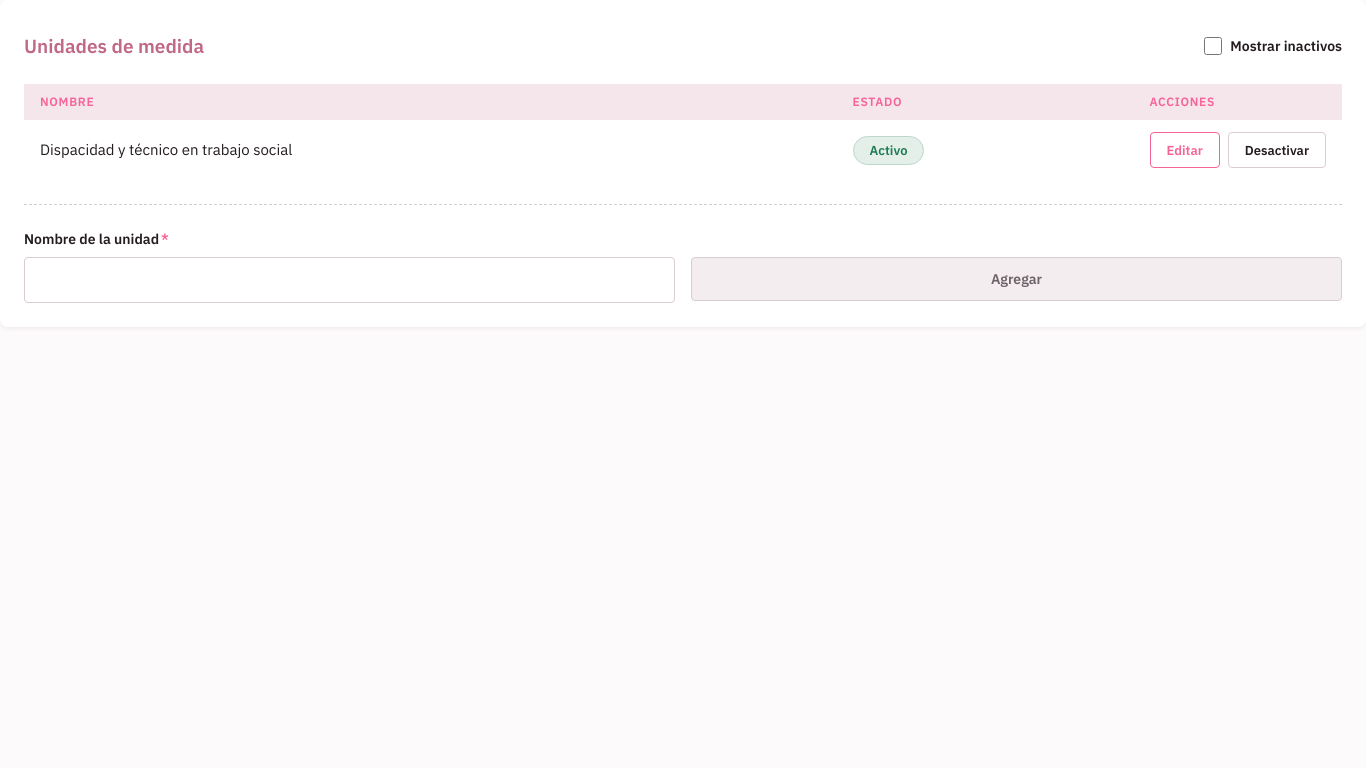
Test case: editar un registro del catálogo › en unidades de medida advierte no cambiar una unidad por otra
The image size is (1366, 768).
Click the button "Editar": (1185, 150) 1150,132 -> 1220,168
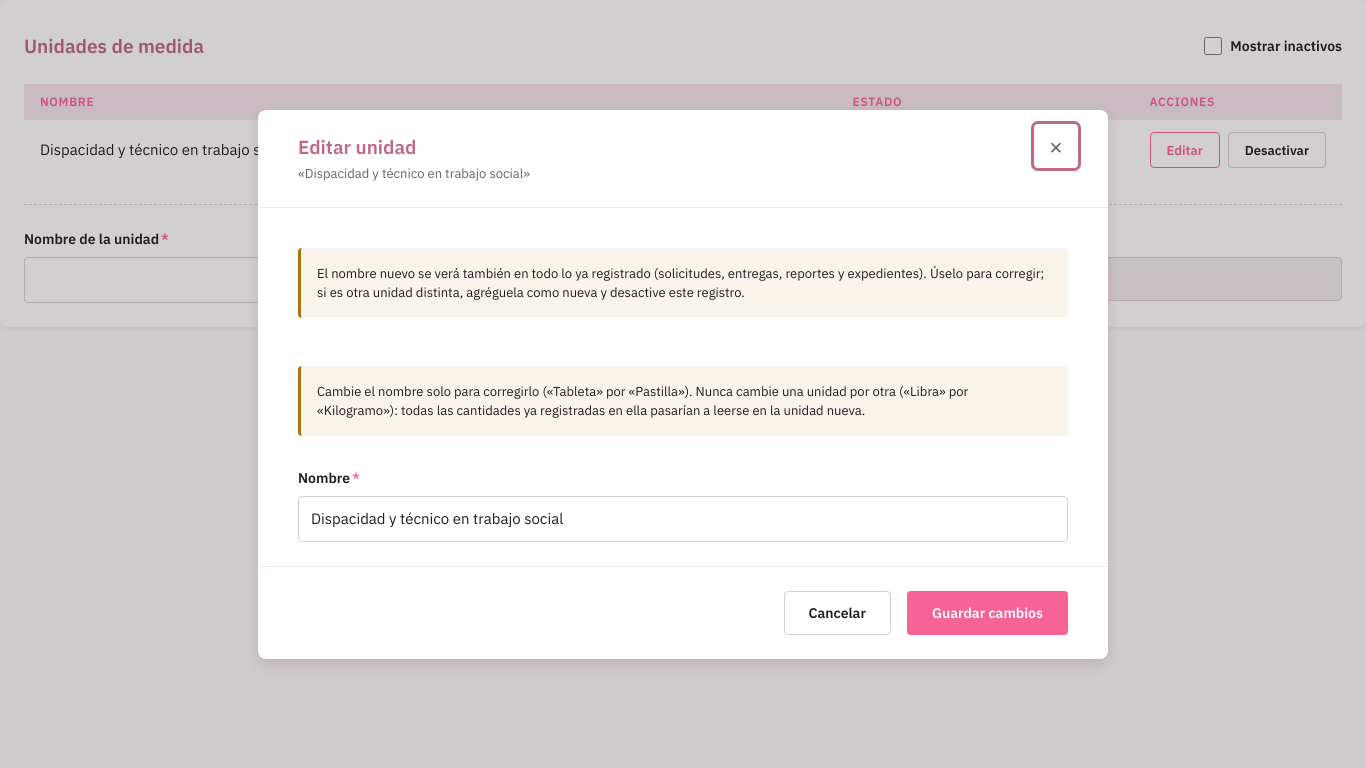
Now the dialog shows "Nunca cambie una unidad por otra", box 317,382 -> 968,418
